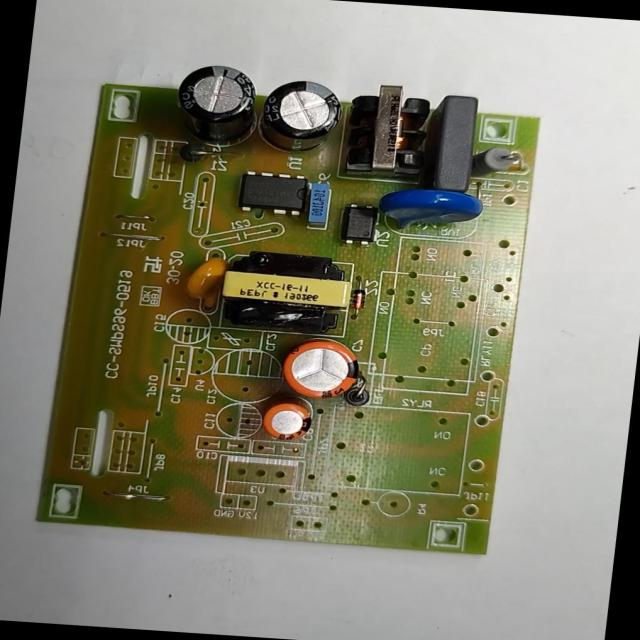Cap1: (280, 335, 360, 402)
Cap2: (263, 400, 312, 442)
Cap3: (252, 77, 343, 151)
Cap4: (172, 62, 264, 149)
MOSFET: (238, 168, 310, 216)
Mov: (377, 186, 486, 234)
Resistor: (470, 144, 519, 182)
Transformer: (218, 248, 351, 333), (339, 81, 434, 180)
